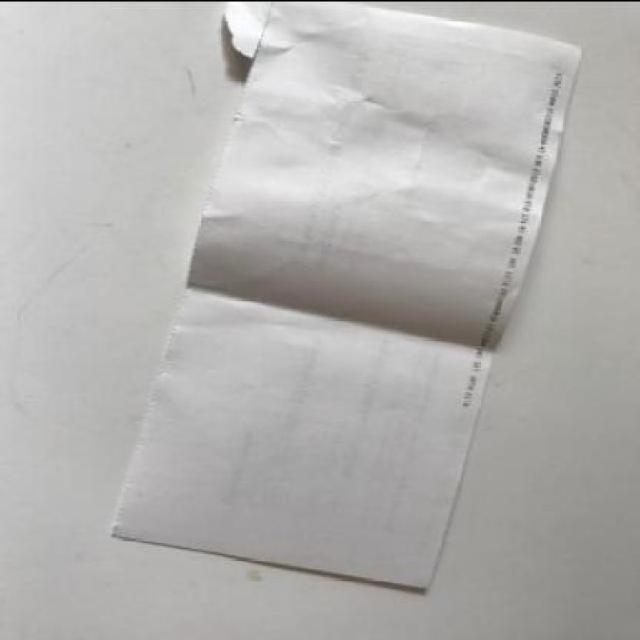PAPER: (108, 2, 582, 584)
